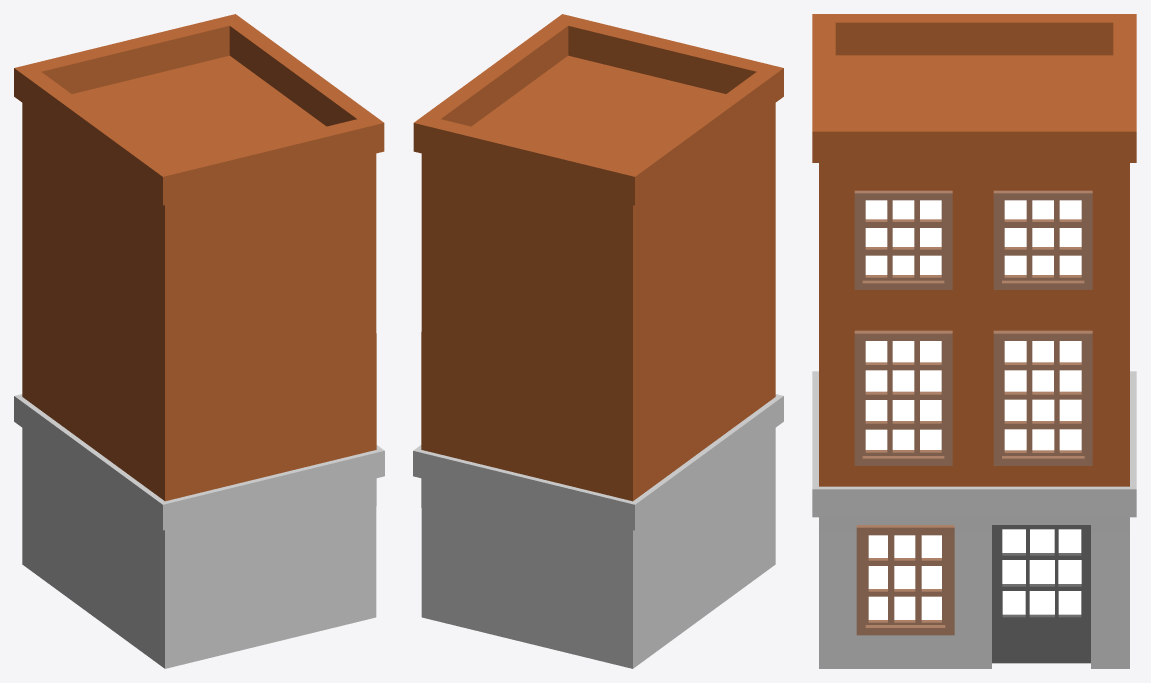
The model's file is House 4.1.fbx.
3 views of the same model, side by side, from view 1: azimuth 30°, elevation 25°; view 2: azimuth 150°, elevation 25°; view 3: azimuth 270°, elevation 25° (orthographic). The views are drawn at different scales.
Parts seen in each view (by area): view 1: House 4.002; view 2: House 4.002; view 3: House 4.002.
Boxes of the visible parts, <box> form: House 4.002: <box>14,14,384,668</box>; House 4.002: <box>413,14,783,668</box>; House 4.002: <box>812,14,1136,668</box>.
Bounding box in the file's own units: 857 × 1829 × 995.
